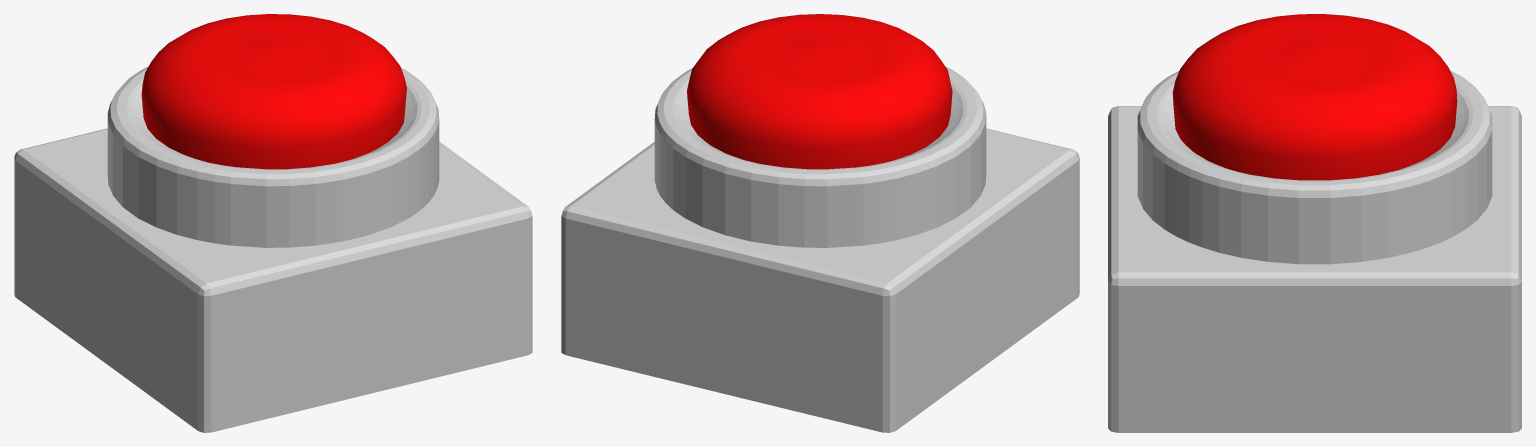
Rendered from Button.fbx.
3 views of the same model, side by side, from view 1: azimuth 30°, elevation 25°; view 2: azimuth 150°, elevation 25°; view 3: azimuth 270°, elevation 25° (orthographic). The views are drawn at different scales.
Visible parts, largest first — view 1: Base, Button; view 2: Base, Button; view 3: Base, Button.
Part boxes in pixels (<box>): Base: <box>14,66,532,432</box>; Button: <box>141,14,406,169</box>; Base: <box>561,66,1079,432</box>; Button: <box>687,14,952,169</box>; Base: <box>1108,70,1521,432</box>; Button: <box>1172,14,1457,180</box>.
Size of the model in its own units: 200 by 156 by 200.
